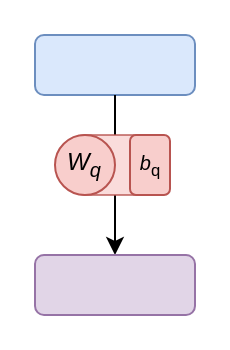
This 230x350 diagram has some shape labels left out. The centre of each missing label's shape, as x and y in pixels:
"Query" belongs at [114,284].
"Query Token" belongs at [114,64].
